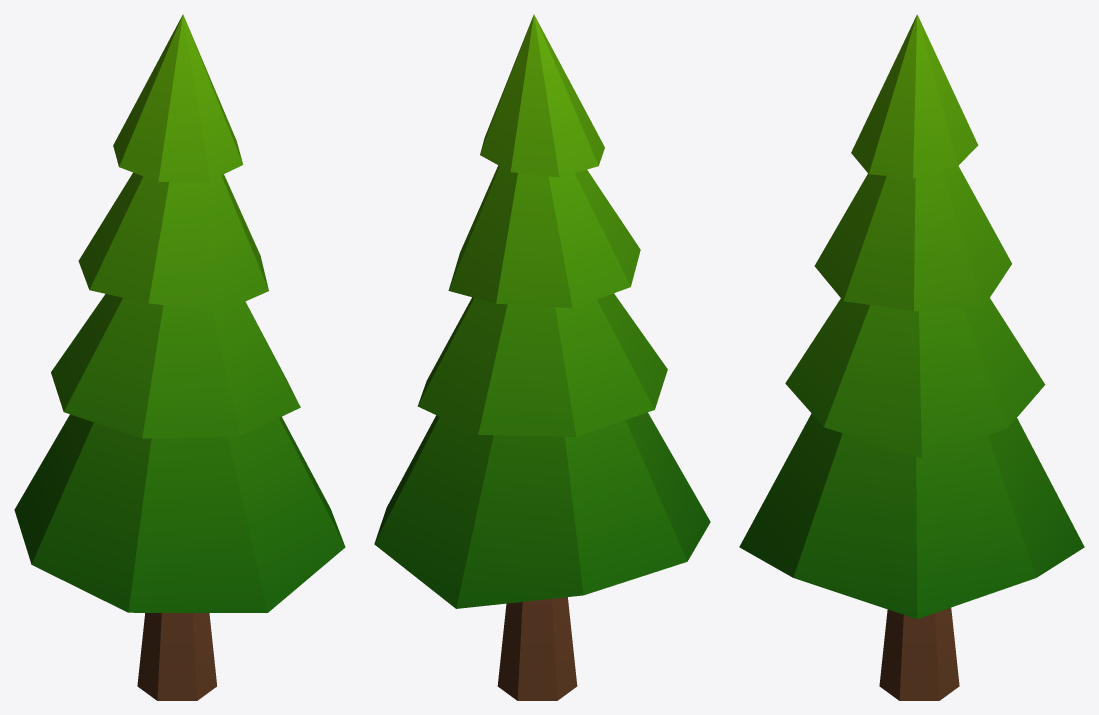
The model's file is tree_pine_1.glb.
3 views of the same model, side by side, from view 1: azimuth 30°, elevation 25°; view 2: azimuth 150°, elevation 25°; view 3: azimuth 270°, elevation 25° (orthographic).
Visible parts, largest first — view 1: tree_pine_1; view 2: tree_pine_1; view 3: tree_pine_1.
Part boxes in pixels (<box>): tree_pine_1: <box>14,14,345,700</box>; tree_pine_1: <box>374,14,710,700</box>; tree_pine_1: <box>739,14,1084,700</box>.
Bounding box in the file's own units: 2.91 × 6.22 × 2.89.
1 material, 1 textured.
